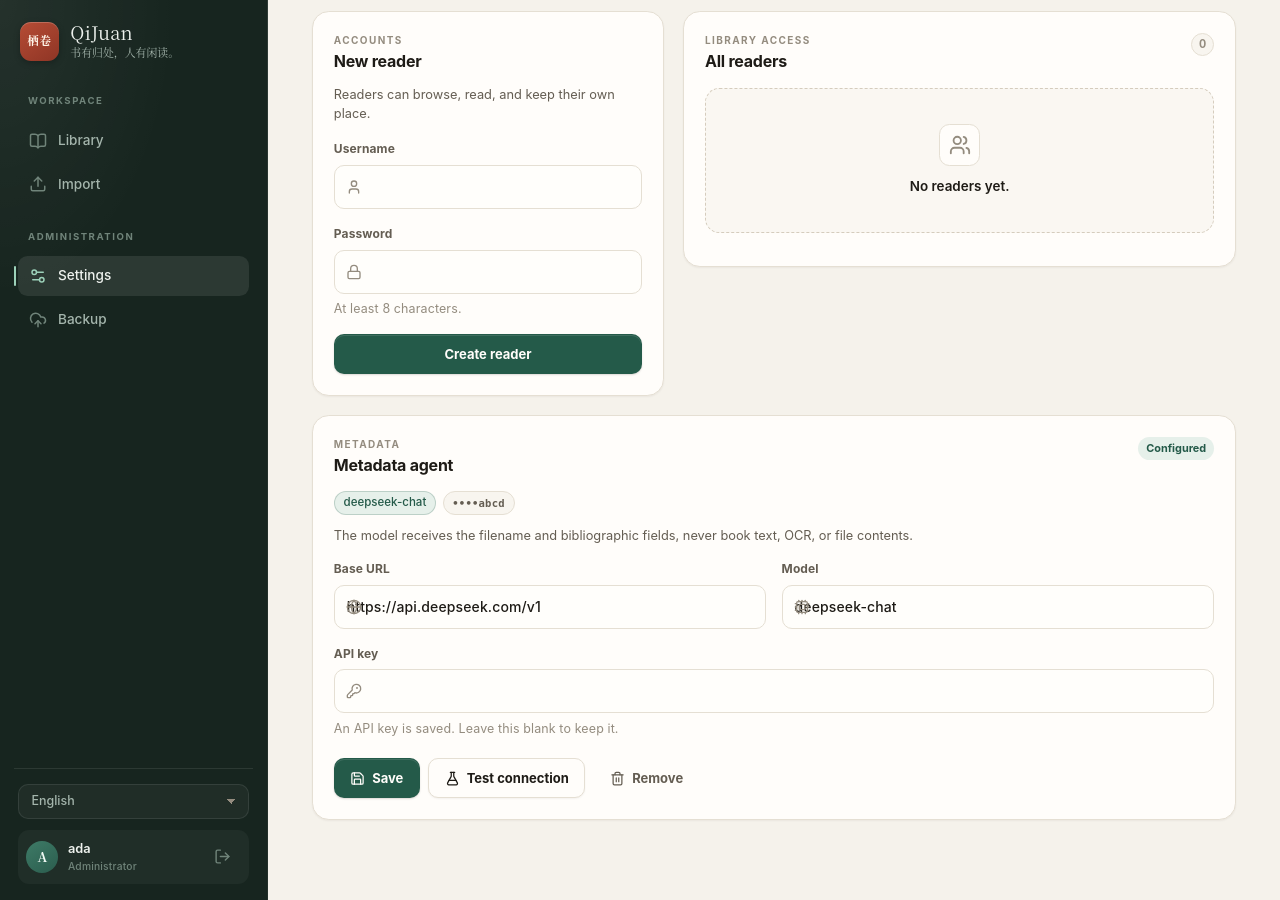
Test: settings metadata agent › tests the saved configuration and reports success
(page scrolled)
Click the button "Test connection".
click(507, 778)  # box [428,758,585,798]
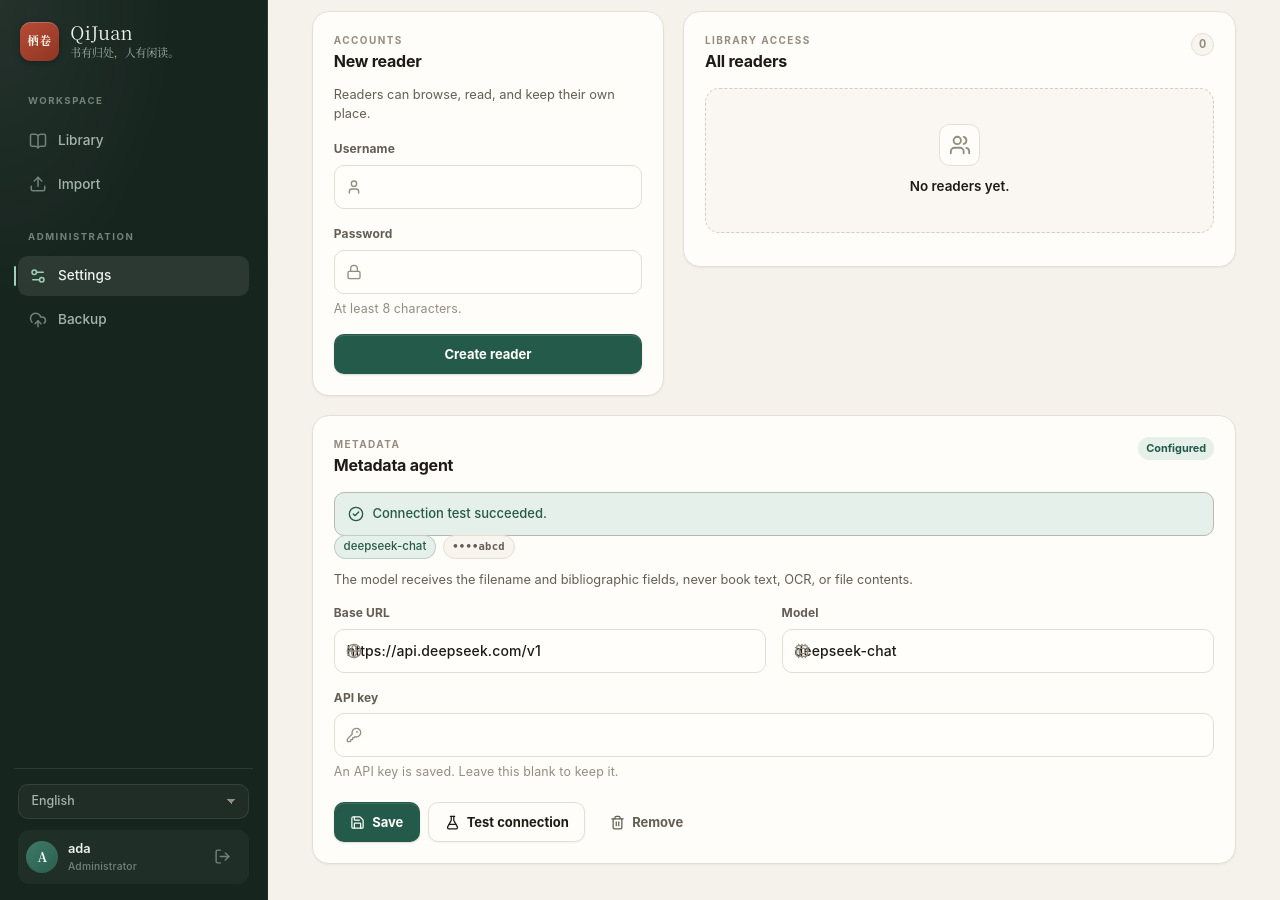
Now the text "Connection test succeeded." is shown, box [334,492,1214,536]
